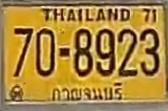0: (35, 27, 54, 76)
2: (118, 28, 136, 76)
3: (138, 28, 158, 74)
7: (12, 27, 32, 76)
8: (73, 28, 92, 76)
9: (95, 28, 114, 75)
KRI: (50, 80, 124, 104)
